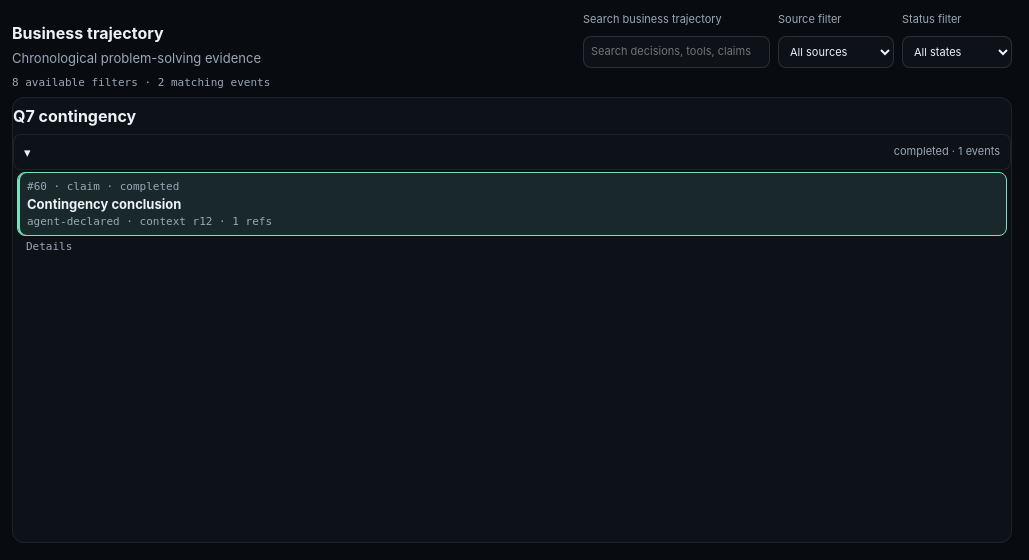
BusinessView › renders a causal row with sequence, kind, source, status, revision, and ref count
Expected: the text "#60" is shown, [27, 180, 47, 193]
Expected: the text "#60 · claim · completed" is shown, [27, 180, 179, 193]
Click the button with aria-label "details for #60" at (49, 246), box [26, 240, 72, 253]
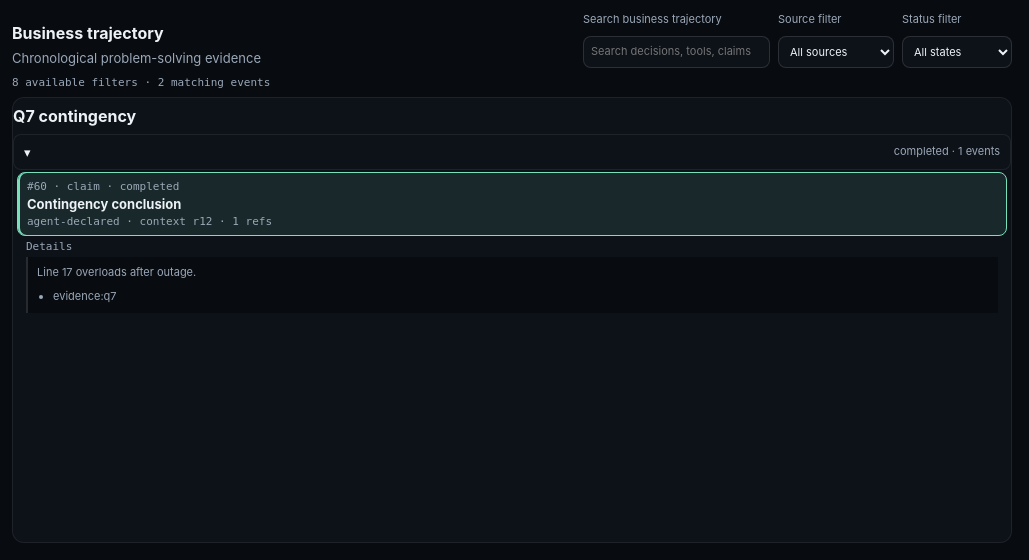
Result: the text "Line 17 overloads after outage." is shown at [37, 265, 196, 279]
Result: the list item "evidence:q7" is shown at [53, 289, 116, 303]
